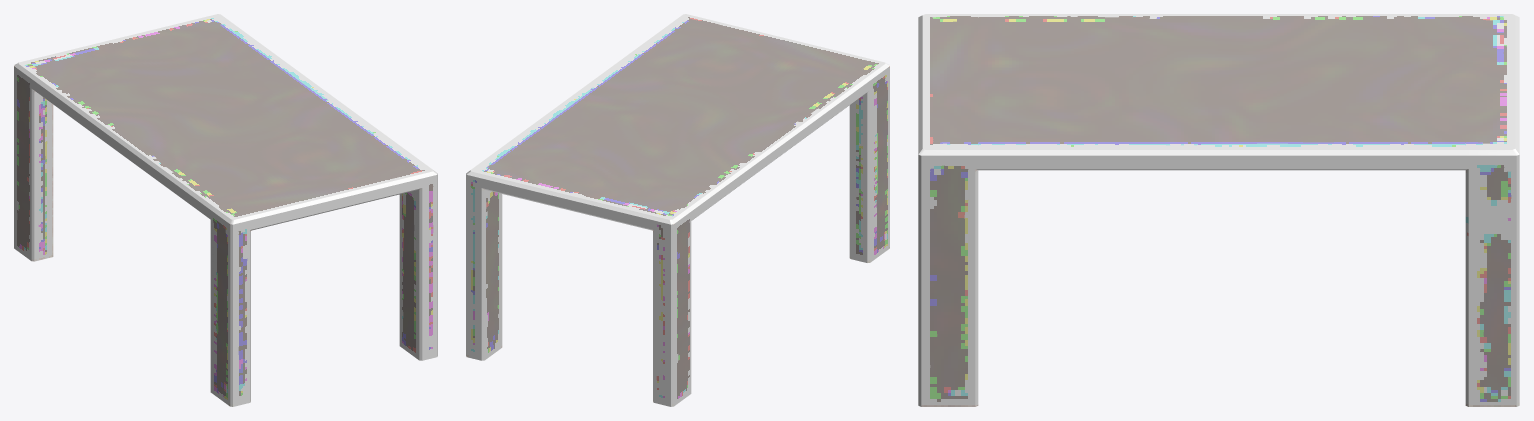
Rendered from Desk2.glb.
3 renders of one model, left to right at view 1: azimuth 30°, elevation 25°; view 2: azimuth 150°, elevation 25°; view 3: azimuth 270°, elevation 25°, orthographic. The views are drawn at different scales.
Parts seen in each view (by area): view 1: desk; view 2: desk; view 3: desk.
Part boxes in pixels (x1,y1,x2,y2): desk: (14,14,437,406); desk: (466,14,889,406); desk: (918,14,1519,406).
Size of the model in its own units: 2.15 by 1.83 by 3.91.
1 material, 1 textured.
